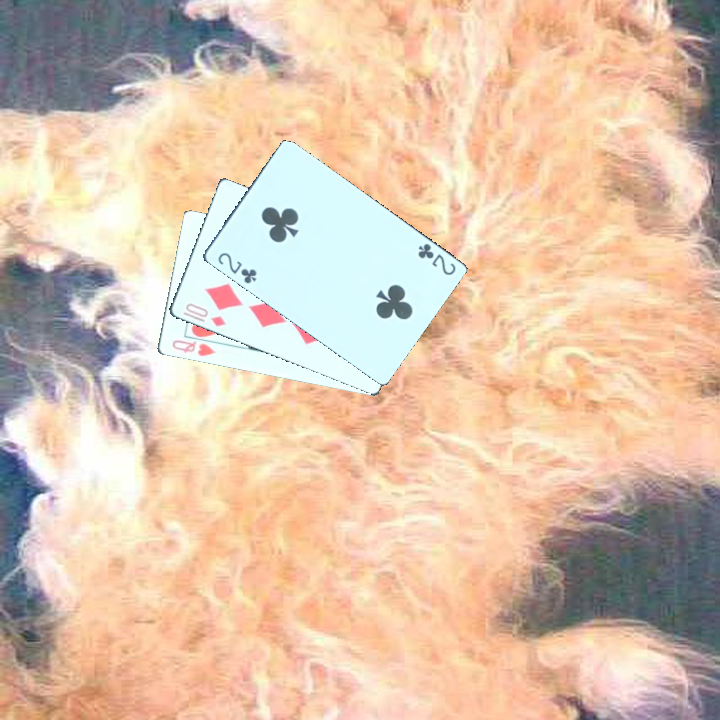10d: (181, 299, 229, 329)
2c: (414, 239, 458, 278), (214, 248, 259, 286)
Qh: (168, 328, 221, 359)
